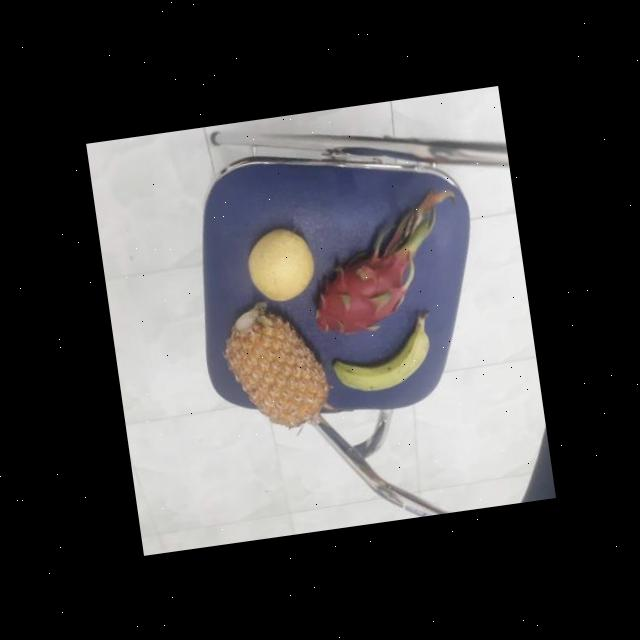banana: (323, 312, 435, 396)
pear: (239, 223, 320, 303)
pineapple: (216, 296, 332, 434)
pitaya: (300, 240, 420, 338)
